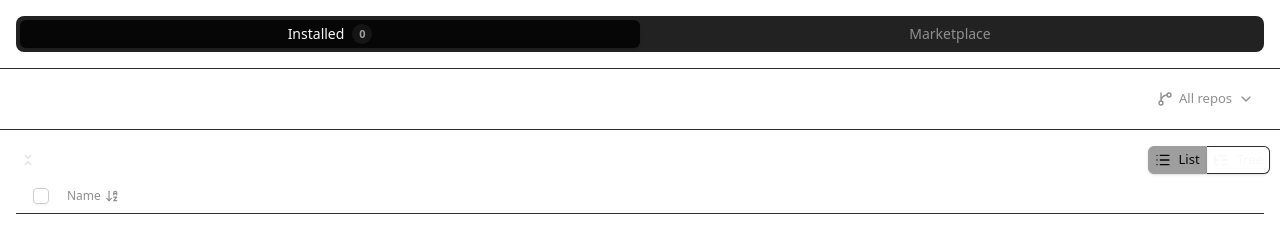
it: MainContent list header integration › reverses the alphabetical sort order when the user clicks the list header sort toggle
Click the button with aria-label "Name, sorted A to Z, click to reverse": (93, 196) 59,184 -> 127,208
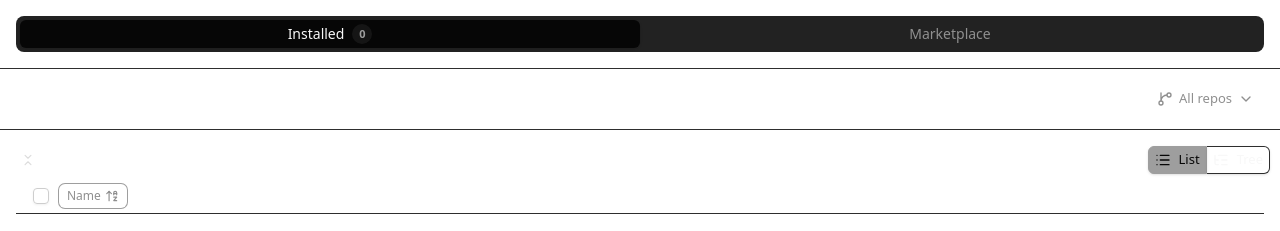
Now the button with aria-label "Name, sorted Z to A, click to reverse" is shown, box 59,184 -> 127,208
